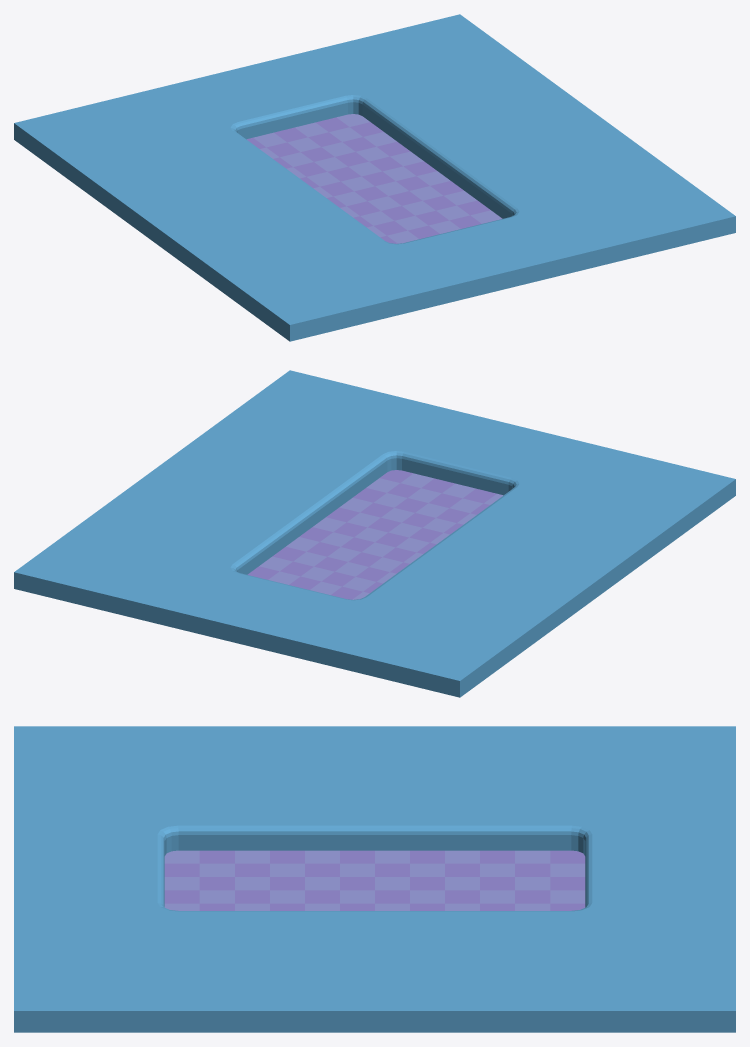
Rendered from Map.fbx.
The picture shows the model from 3 angles, top to bottom: view 1: azimuth 30°, elevation 25°; view 2: azimuth 150°, elevation 25°; view 3: azimuth 270°, elevation 25°; orthographic projection. The views are drawn at different scales.
Visible parts, largest first — view 1: Cube.009; view 2: Cube.009; view 3: Cube.009.
Part boxes in pixels (x1=…): Cube.009: x1=14, y1=14, x2=735, y2=341; Cube.009: x1=14, y1=370, x2=735, y2=697; Cube.009: x1=14, y1=726, x2=735, y2=1032.
Size of the model in its own units: 56 by 2 by 60.
